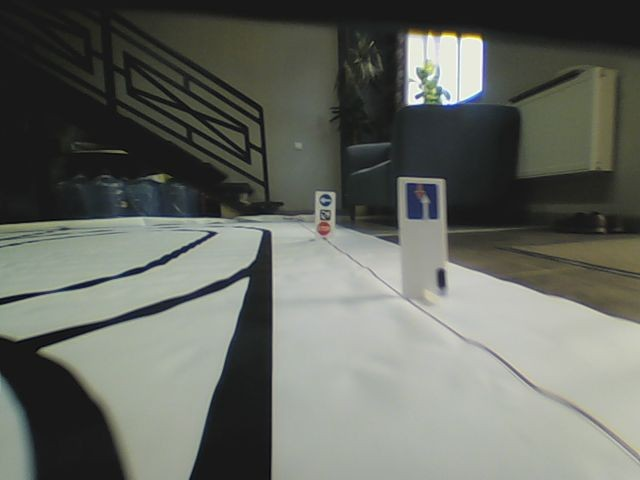priority_movement: (405, 180, 439, 222)
